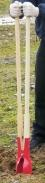PELLE: (8, 3, 38, 175)
